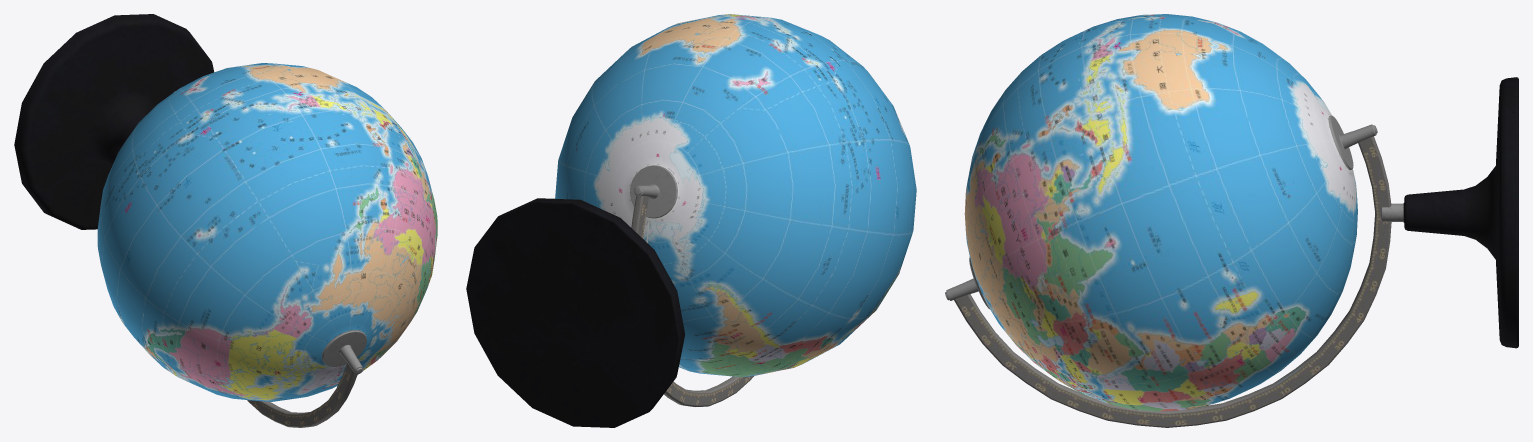
The model's file is body_3.obj.
The picture shows the model from 3 angles, left to right: view 1: azimuth 30°, elevation 25°; view 2: azimuth 150°, elevation 25°; view 3: azimuth 270°, elevation 25°; orthographic projection. The views are drawn at different scales.
Visible parts, largest first — view 1: polySurface83_1008.003; view 2: polySurface83_1008.003; view 3: polySurface83_1008.003.
Boxes of the visible parts, x1,y1,x2,y2 form: polySurface83_1008.003: [14, 14, 437, 427]; polySurface83_1008.003: [466, 14, 916, 427]; polySurface83_1008.003: [945, 14, 1518, 427].
Size of the model in its own units: 1.99 by 2.18 by 2.87.
1 material, 1 textured.
